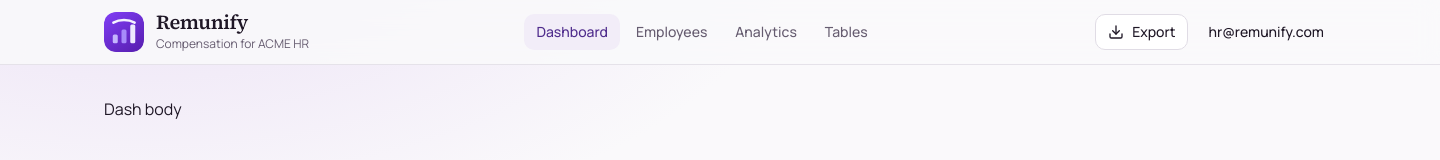
Test: AppShell › signs out and navigates to login
What coordinates should you click on to do the following:
click the button "hr@remunify.com"
I would click on:
 (1266, 32)
Its box is [1196,14,1336,50].
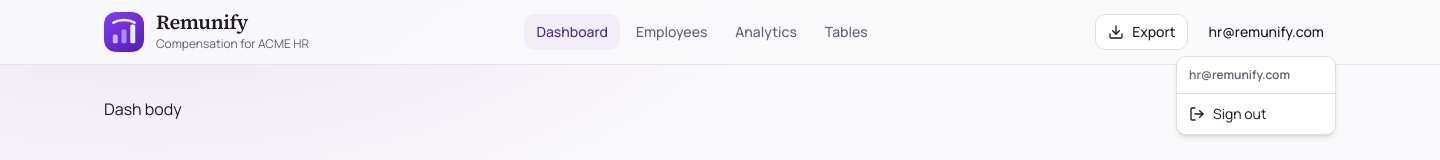
What coordinates should you click on to do the following:
click the menu item "Sign out"
I would click on:
 (1228, 114)
Its box is [1189,104,1266,123].
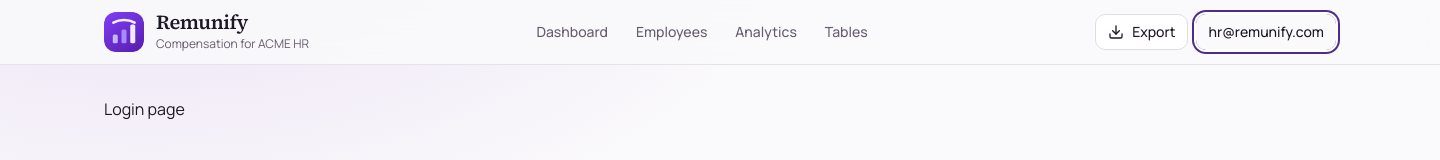
Now the text "Login page" is shown, box [104,98,185,120]
